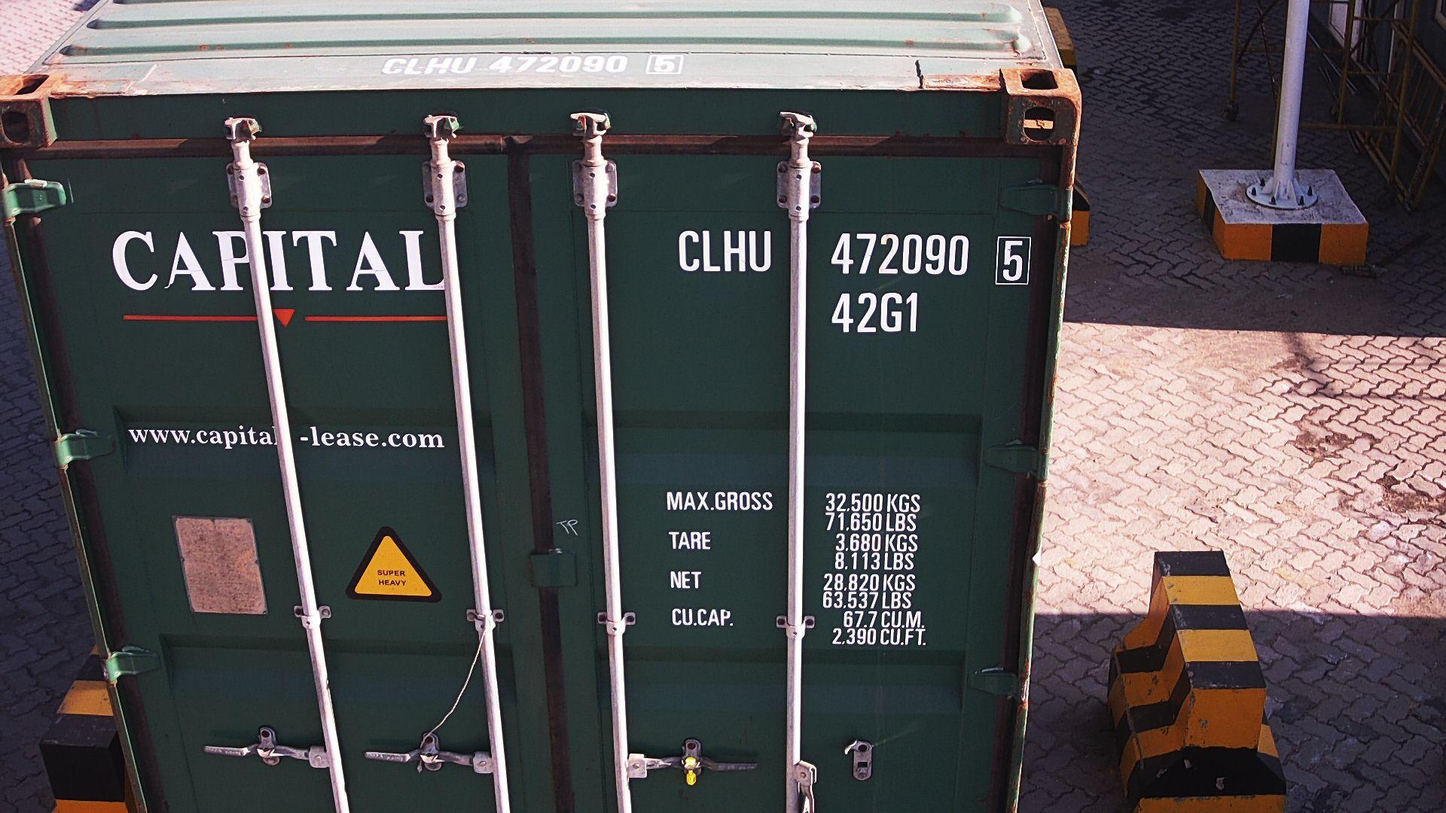container-numbers: (673, 225, 1040, 290), (362, 53, 685, 81), (828, 288, 927, 338)
